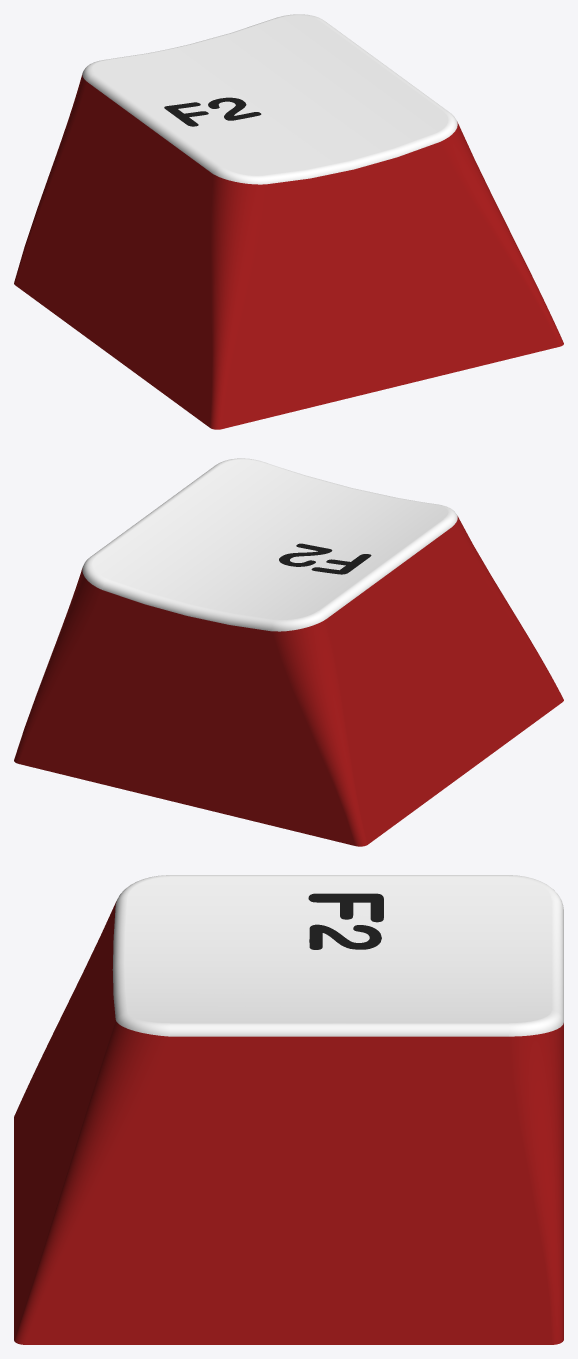
3 renders of one model, top to bottom at view 1: azimuth 30°, elevation 25°; view 2: azimuth 150°, elevation 25°; view 3: azimuth 270°, elevation 25°, orthographic. The views are drawn at different scales.
Visible parts, largest first — view 1: Body1; view 2: Body1; view 3: Body1.
Boxes of the visible parts, bbox=[...] form: Body1: bbox=[14, 14, 563, 429]; Body1: bbox=[14, 458, 563, 846]; Body1: bbox=[14, 875, 563, 1344].
Bounding box in the file's own units: 18 × 10.07 × 18.
